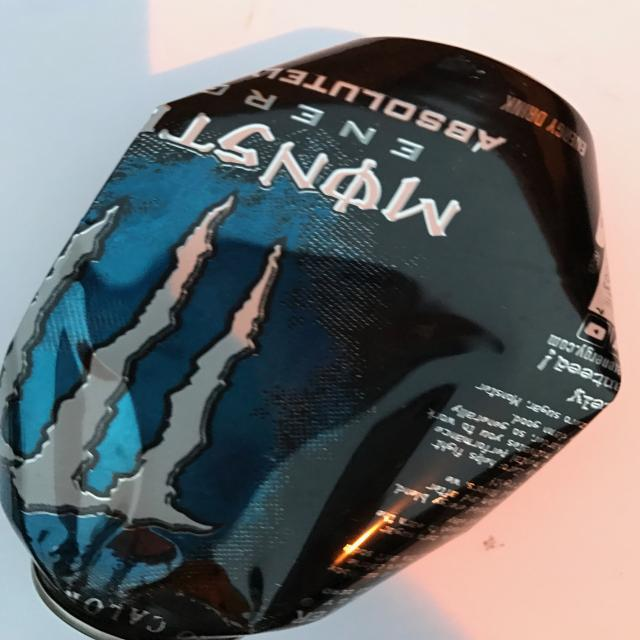metal: (0, 35, 623, 640)
